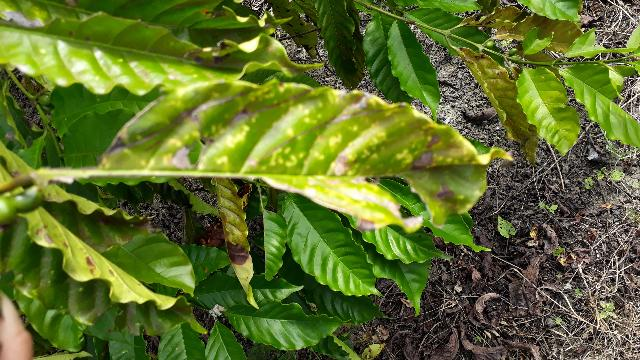red_spider_mite: (44, 76, 518, 233)
